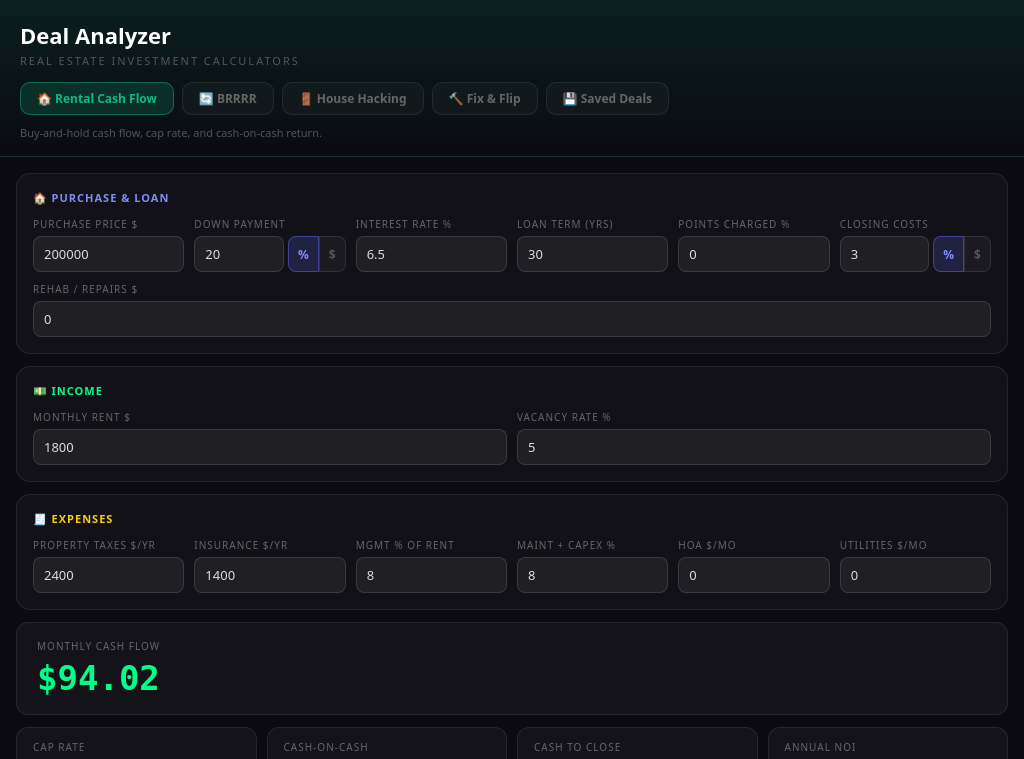
Test: house hacking unit count adds rent rows
Click the button "🚪 House Hacking".
click(353, 98)  # box [282, 82, 424, 115]
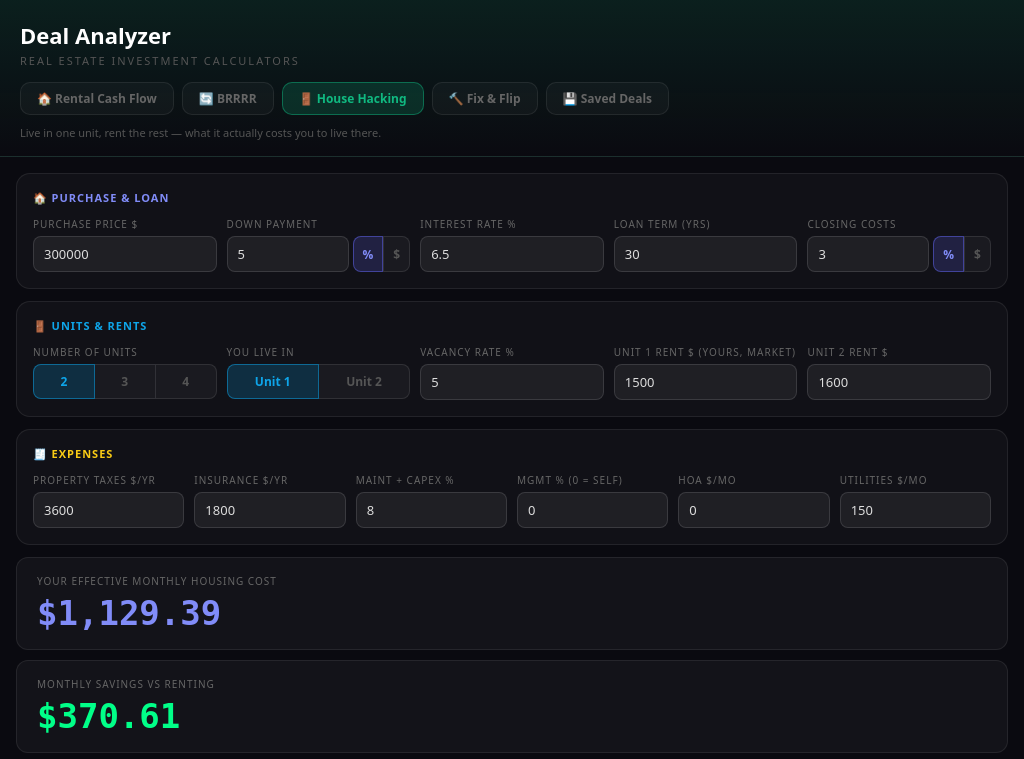
Check: the button "Unit 1" is shown, box [227, 364, 319, 399]
Check: the button "Unit 2" is shown, box [319, 364, 410, 399]
// Switch to a fourplex via the unit-count control
Click the button "4".
click(186, 382)  # box [156, 364, 217, 399]
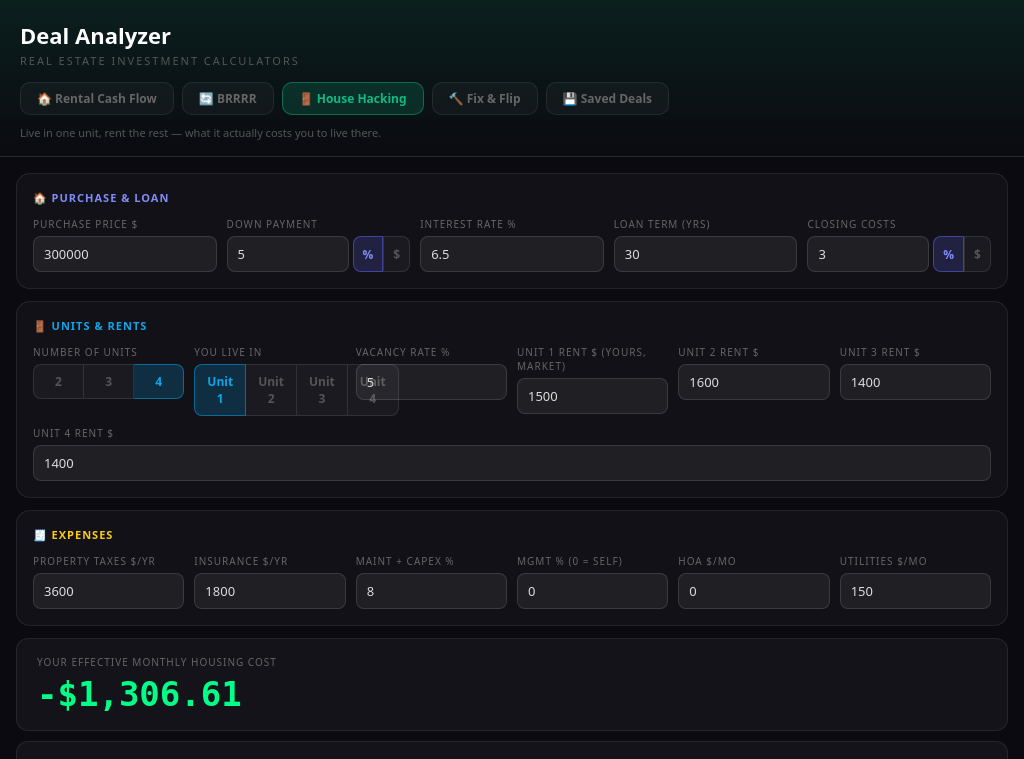
Check: the button "Unit 3" is shown, box [297, 364, 348, 416]
Check: the button "Unit 4" is shown, box [348, 364, 399, 416]
